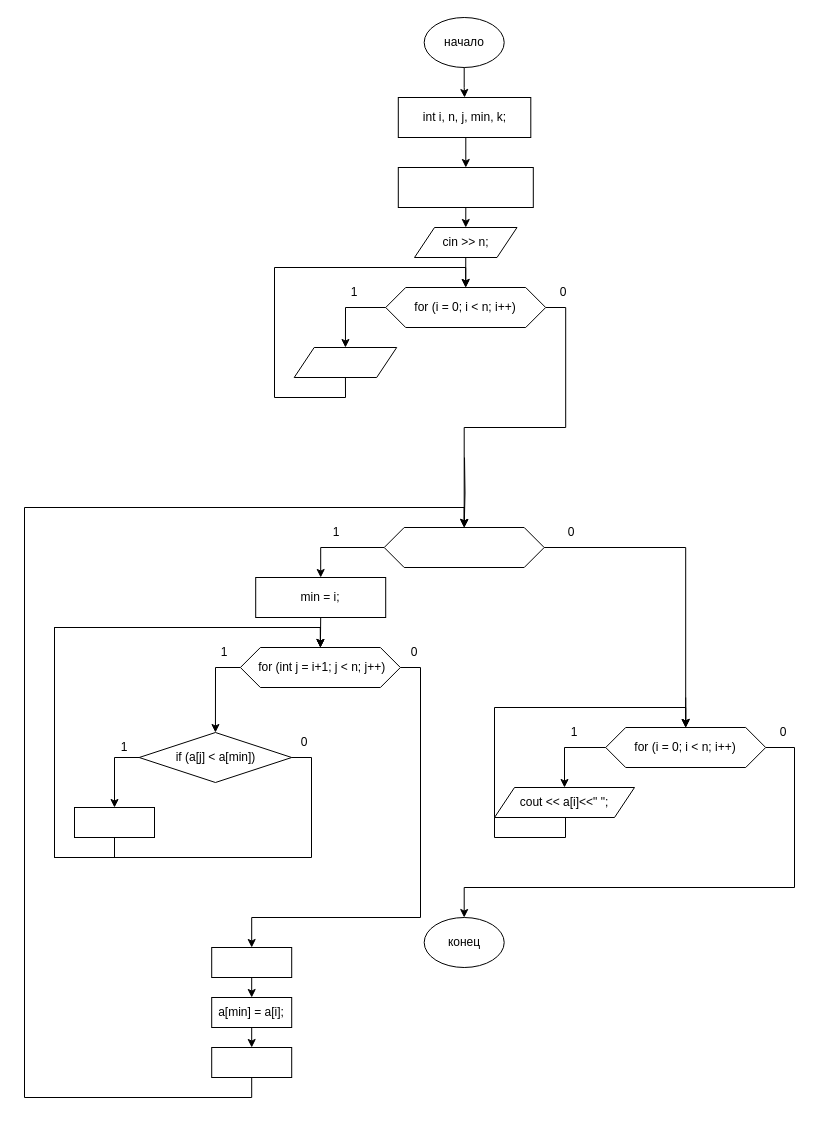
Some shapes in this 831 by 1123 pixel diagram are drawn without their labels. The centre of each missing label's shape, as x and y in pixels:
a[i] = tmp;: pixel 251 1062
cin >> a[i];: pixel 345 362
for (i = 0; i < n - 1; i++): pixel 463 547
int a[50];: pixel 465 187
min = j;: pixel 114 822
tmp = a[min];: pixel 251 962
